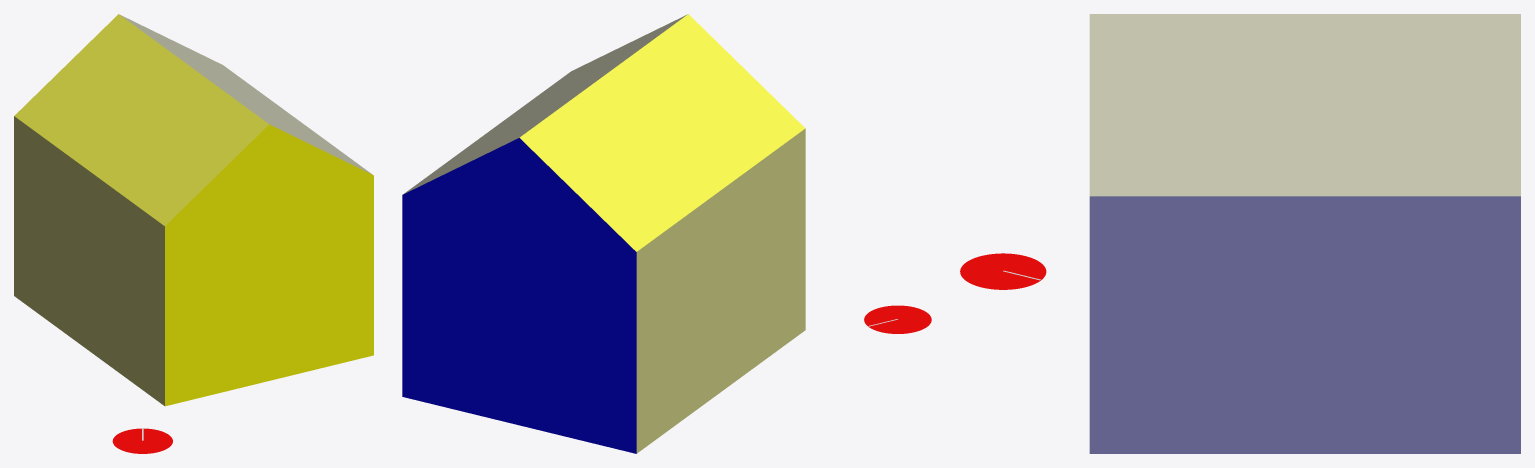
The model's file is result.glb.
The picture shows the model from 3 angles, left to right: view 1: azimuth 30°, elevation 25°; view 2: azimuth 150°, elevation 25°; view 3: azimuth 270°, elevation 25°; orthographic projection. The views are drawn at different scales.
Parts seen in each view (by area): view 1: 86c7a699-3176-4af3-82b1-147f1c090d78__undefined, 5569bcab-659d-4d05-badb-f0c3a63ac540__undefined, f865fd0b-5631-4e90-80cf-5ce5b0061489__undefined, 20bd27dd-40f0-4c21-8bf3-7f23e83978f5__undefined, 5106b2c0-6e25-43f2-b451-c93d81851908__Circle; view 2: 9530f177-b084-4882-95e2-35bf6897d021__undefined, 5569bcab-659d-4d05-badb-f0c3a63ac540__undefined, f865fd0b-5631-4e90-80cf-5ce5b0061489__undefined, 20bd27dd-40f0-4c21-8bf3-7f23e83978f5__undefined, 5106b2c0-6e25-43f2-b451-c93d81851908__Circle; view 3: b6c28b99-a3fa-4e49-84da-f30a8e370d87__undefined, 20bd27dd-40f0-4c21-8bf3-7f23e83978f5__undefined, 5106b2c0-6e25-43f2-b451-c93d81851908__Circle.
Part boxes in pixels (x1,y1,x2,y2): 86c7a699-3176-4af3-82b1-147f1c090d78__undefined: [165, 124, 373, 406]; 5569bcab-659d-4d05-badb-f0c3a63ac540__undefined: [14, 116, 164, 405]; f865fd0b-5631-4e90-80cf-5ce5b0061489__undefined: [14, 14, 268, 225]; 20bd27dd-40f0-4c21-8bf3-7f23e83978f5__undefined: [119, 14, 372, 174]; 5106b2c0-6e25-43f2-b451-c93d81851908__Circle: [112, 428, 172, 453]; 9530f177-b084-4882-95e2-35bf6897d021__undefined: [402, 138, 636, 453]; 5569bcab-659d-4d05-badb-f0c3a63ac540__undefined: [636, 128, 805, 453]; f865fd0b-5631-4e90-80cf-5ce5b0061489__undefined: [519, 14, 805, 251]; 20bd27dd-40f0-4c21-8bf3-7f23e83978f5__undefined: [403, 14, 687, 194]; 5106b2c0-6e25-43f2-b451-c93d81851908__Circle: [864, 305, 931, 333]; b6c28b99-a3fa-4e49-84da-f30a8e370d87__undefined: [1089, 196, 1520, 453]; 20bd27dd-40f0-4c21-8bf3-7f23e83978f5__undefined: [1089, 14, 1520, 196]; 5106b2c0-6e25-43f2-b451-c93d81851908__Circle: [960, 253, 1046, 289].
Size of the model in its own units: 550 by 469 by 650.
